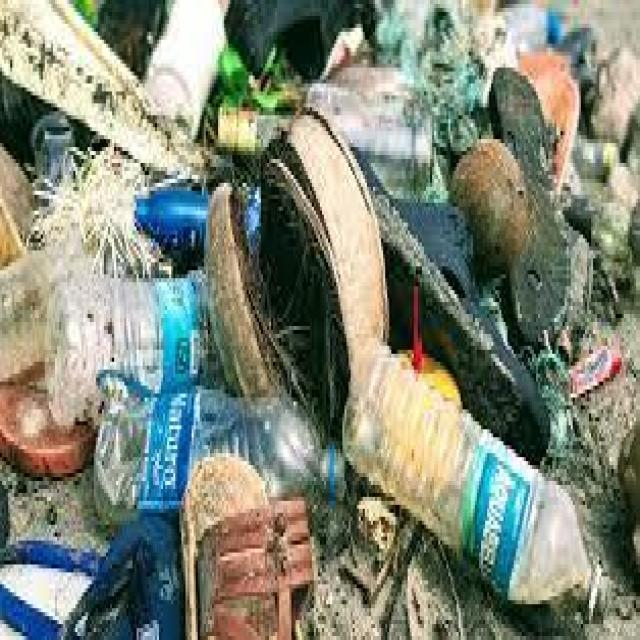bottle: (342, 326, 610, 640), (88, 368, 352, 554), (37, 266, 222, 446)
